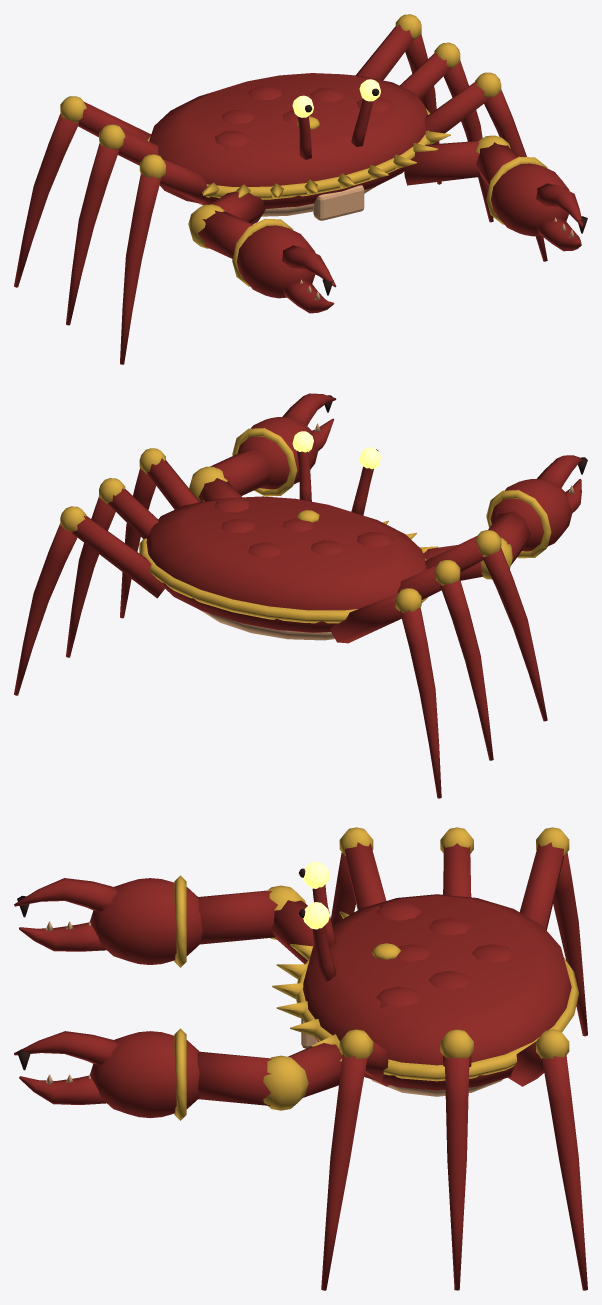
File: yuyu.glb
The picture shows the model from 3 angles, top to bottom: view 1: azimuth 30°, elevation 25°; view 2: azimuth 150°, elevation 25°; view 3: azimuth 270°, elevation 25°; orthographic projection. The views are drawn at different scales.
Visible parts, largest first — view 1: body_mesh, leg_r_mesh, leg_l_mesh, arm_l_mesh, arm_r_mesh, claw_r_mesh, claw_l_mesh; view 2: body_mesh, leg_r_mesh, leg_l_mesh, arm_l_mesh, arm_r_mesh, claw_l_mesh, claw_r_mesh; view 3: body_mesh, leg_l_mesh, arm_l_mesh, arm_r_mesh, leg_r_mesh, claw_l_mesh, claw_r_mesh.
Boxes of the visible parts, x1,y1,x2,y2 form: body_mesh: (147, 73, 450, 220); leg_r_mesh: (14, 96, 210, 364); leg_l_mesh: (355, 14, 547, 261); arm_l_mesh: (403, 135, 581, 251); arm_r_mesh: (188, 191, 334, 313); claw_r_mesh: (281, 245, 336, 295); claw_l_mesh: (536, 183, 587, 233); body_mesh: (139, 431, 438, 640); leg_r_mesh: (330, 530, 547, 798); leg_l_mesh: (14, 448, 200, 695); arm_l_mesh: (189, 417, 334, 502); arm_r_mesh: (423, 479, 581, 580); claw_l_mesh: (282, 393, 336, 425); claw_r_mesh: (537, 455, 587, 487); body_mesh: (272, 861, 578, 1096); leg_l_mesh: (321, 1029, 587, 1290); arm_l_mesh: (19, 1028, 342, 1120); arm_r_mesh: (19, 875, 314, 967); leg_r_mesh: (331, 827, 587, 1036); claw_l_mesh: (14, 1031, 117, 1070); claw_r_mesh: (14, 878, 117, 917).
Bounding box in the file's own units: 2.42 × 1.23 × 2.28.
